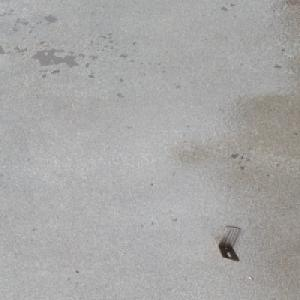MetalPart: (217, 225, 241, 262)
